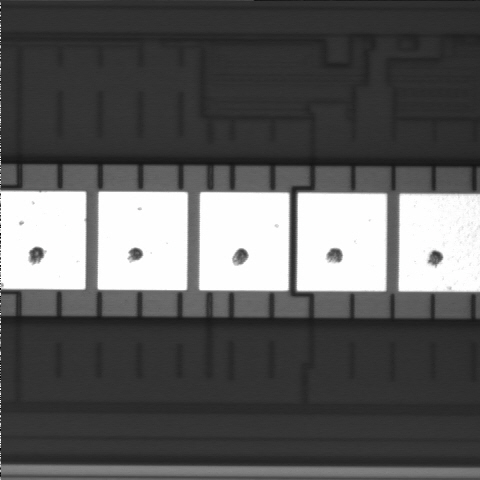pad: (199, 192, 289, 291), (98, 192, 188, 290), (297, 193, 387, 291)
